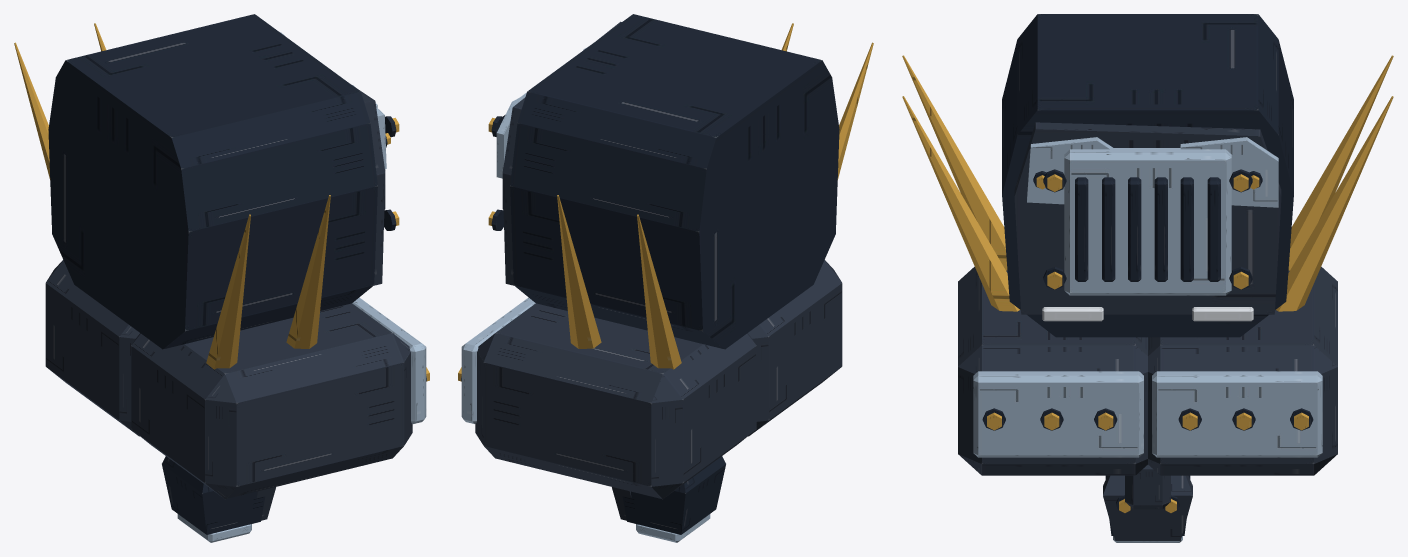
The model's file is juggernaut.glb.
The picture shows the model from 3 angles, left to right: view 1: azimuth 30°, elevation 25°; view 2: azimuth 150°, elevation 25°; view 3: azimuth 270°, elevation 25°; orthographic projection. The views are drawn at different scales.
Parts seen in each view (by area): view 1: chest, arm_R, arm_L, forearm_L; view 2: chest, arm_L, arm_R, forearm_L; view 3: chest, arm_L, arm_R, forearm_L.
Part boxes in pixels (<box>): chest: <box>48,14,399,349</box>; arm_R: <box>131,195,429,499</box>; arm_L: <box>14,23,139,436</box>; forearm_L: <box>162,456,275,542</box>; chest: <box>488,14,839,349</box>; arm_L: <box>458,195,756,499</box>; arm_R: <box>748,23,873,436</box>; forearm_L: <box>612,456,725,542</box>; chest: <box>1002,14,1293,337</box>; arm_L: <box>1125,55,1393,509</box>; arm_R: <box>902,55,1147,475</box>; forearm_L: <box>1103,475,1192,542</box>.
Size of the model in its own units: 0.293 by 0.5405 by 0.5118.
5 materials, 5 textured.
